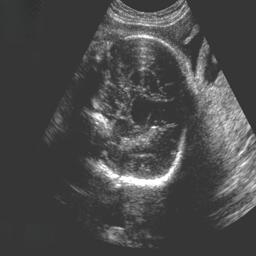abnormal: (75, 32, 200, 192)
